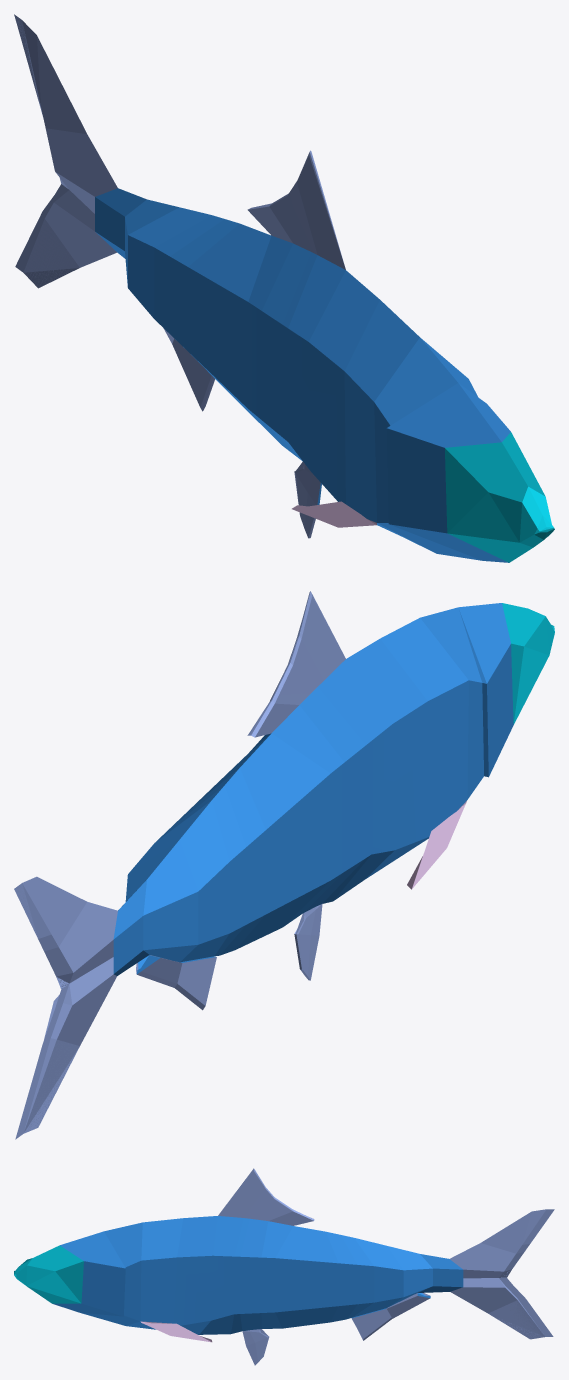
The model's file is fishlowpoly.fbx.
3 views of the same model, one above another, from view 1: azimuth 30°, elevation 25°; view 2: azimuth 150°, elevation 25°; view 3: azimuth 270°, elevation 25° (orthographic). The views are drawn at different scales.
Visible parts, largest first — view 1: Cylinder_Cylinder.001; view 2: Cylinder_Cylinder.001; view 3: Cylinder_Cylinder.001.
Part boxes in pixels (x1,y1,x2,y2): Cylinder_Cylinder.001: (14, 14, 554, 562); Cylinder_Cylinder.001: (14, 591, 554, 1139); Cylinder_Cylinder.001: (14, 1168, 554, 1365).
Size of the model in its own units: 66.17 by 204 by 508.
